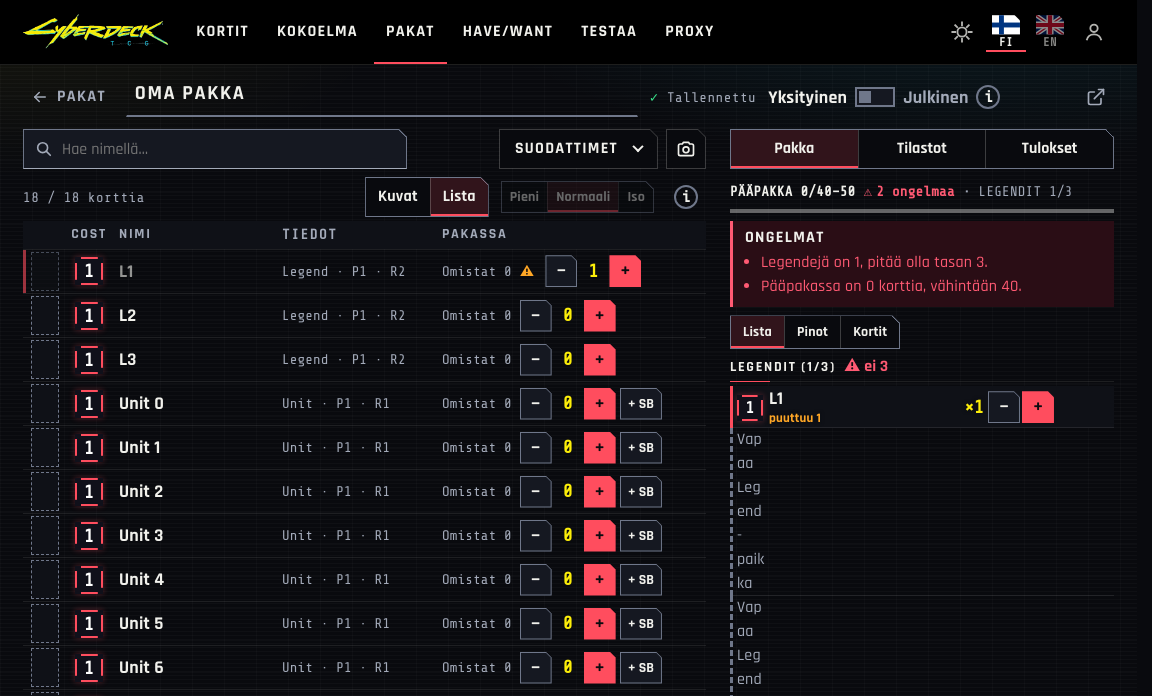
Deck column › shows the Legends as image slots with the free slots, and removes a Legend
Expected: the heading "Legendit (1/3)" is shown, [730,357,836,378]
Click the button named "Poista pakasta: L1": (1004, 407) [988,391,1020,423]
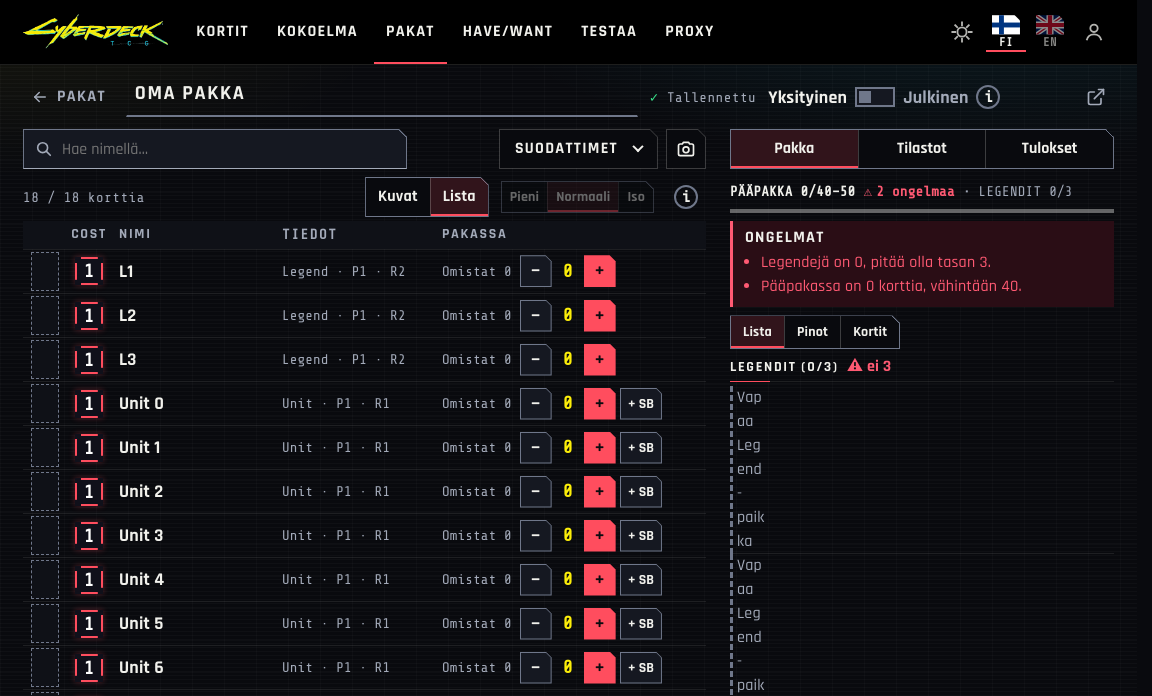
Now the text "Vapaa Legend-paikka" is shown 3 times
